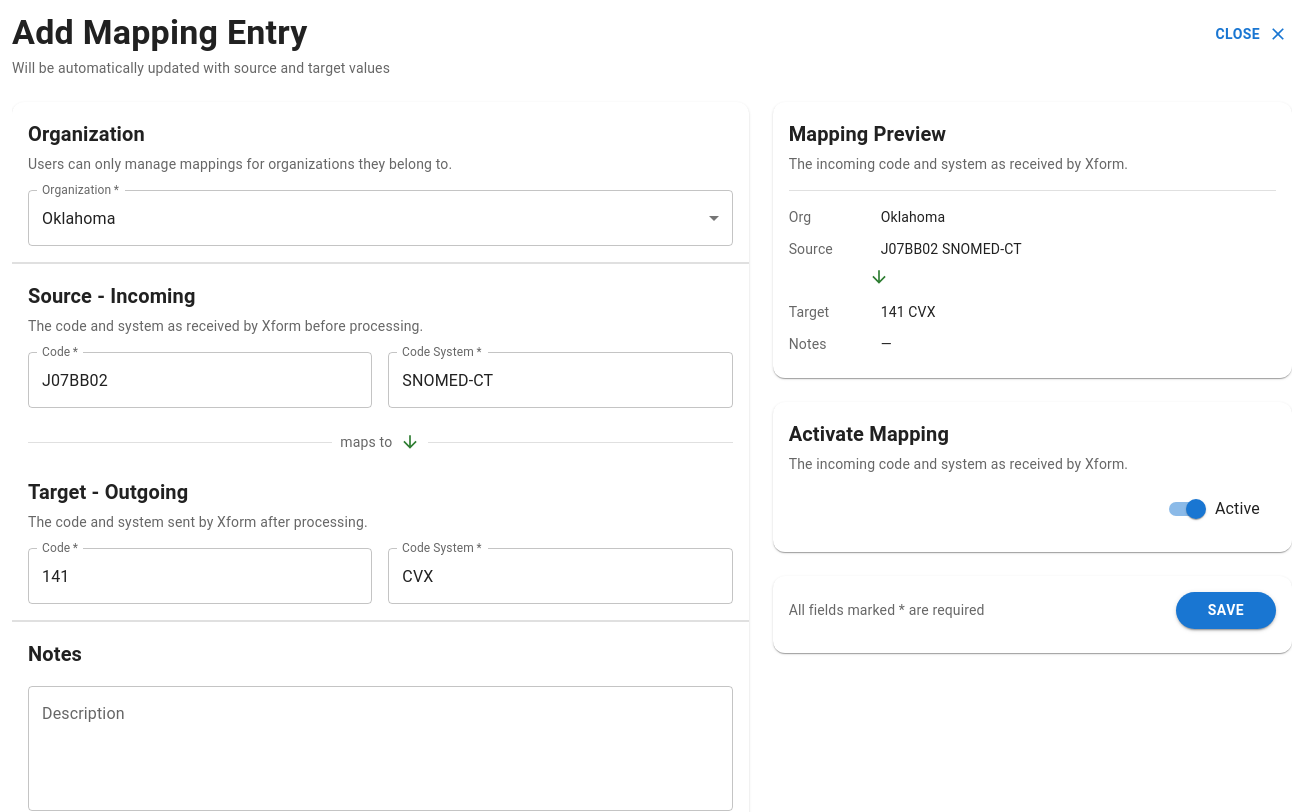
it: CreateMapping - Add mode › shows error snackbar when addMapping fails
Click the button "SAVE": x=1226, y=610 [1176, 592, 1276, 629]
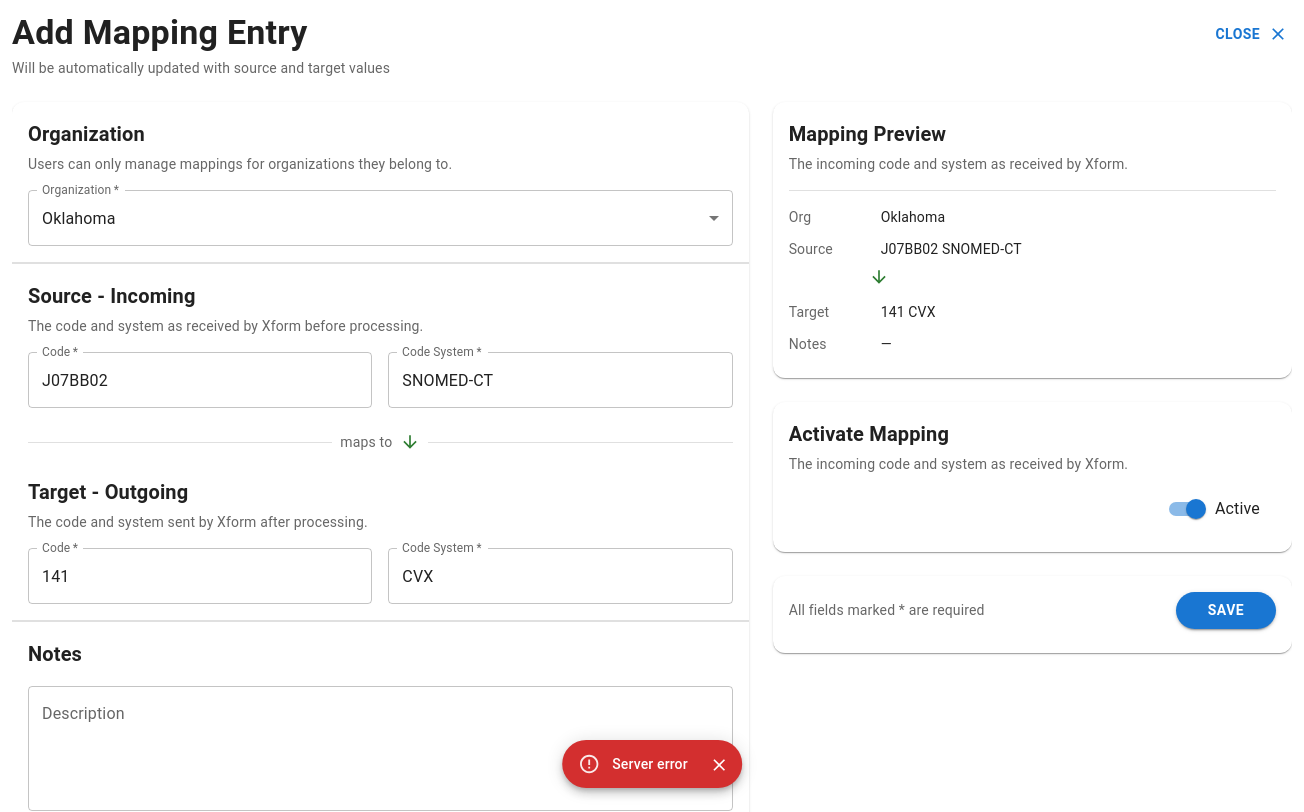
expect the text "Server error" is shown: met, box [612, 756, 688, 772]
